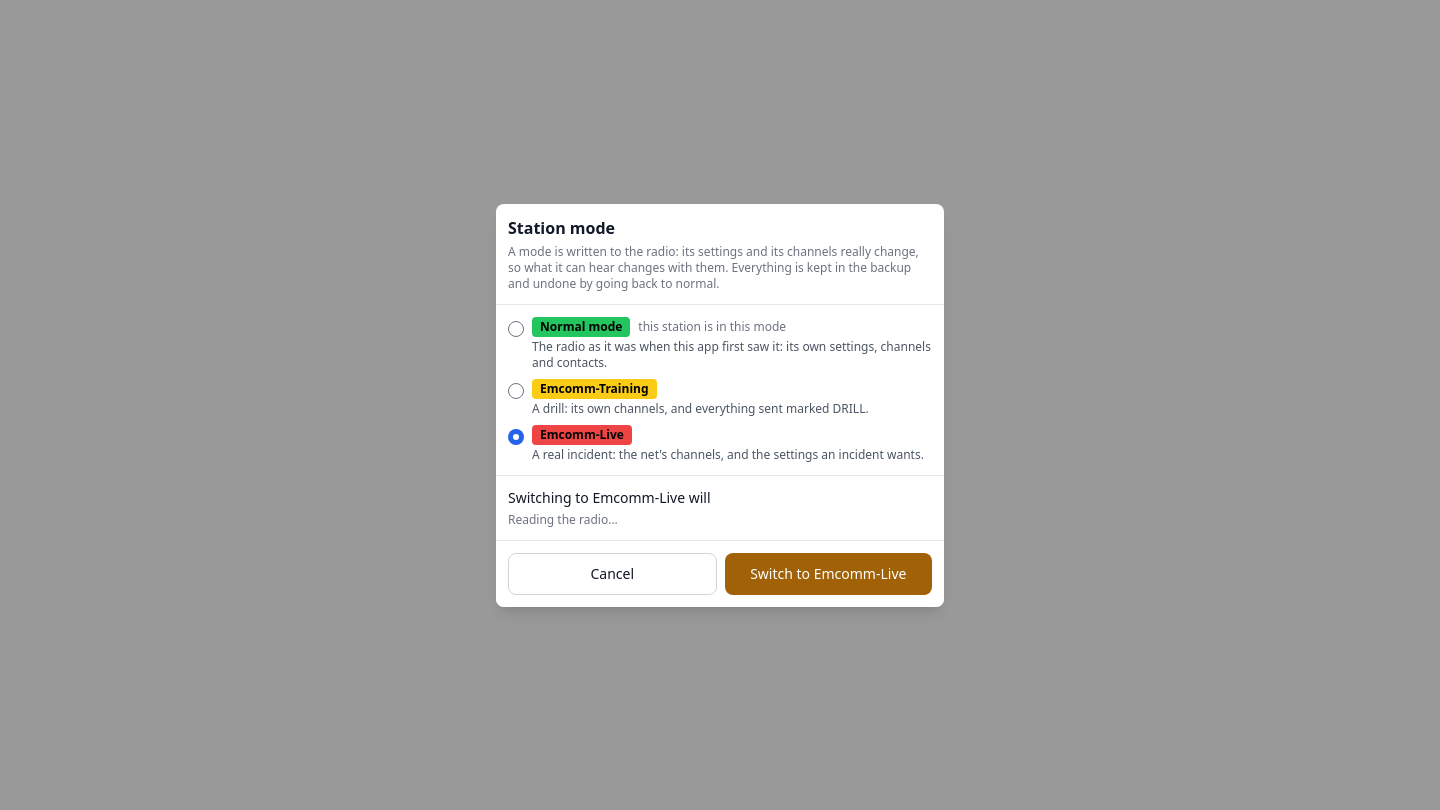
the mode switch dialog › stops and asks when the way home would be incomplete, and writes nothing
The width and height of the screenshot is (1440, 810).
Step 1. Click the button "Switch to Emcomm-Live" → {"x": 828, "y": 574}, box [725,552,932,594]
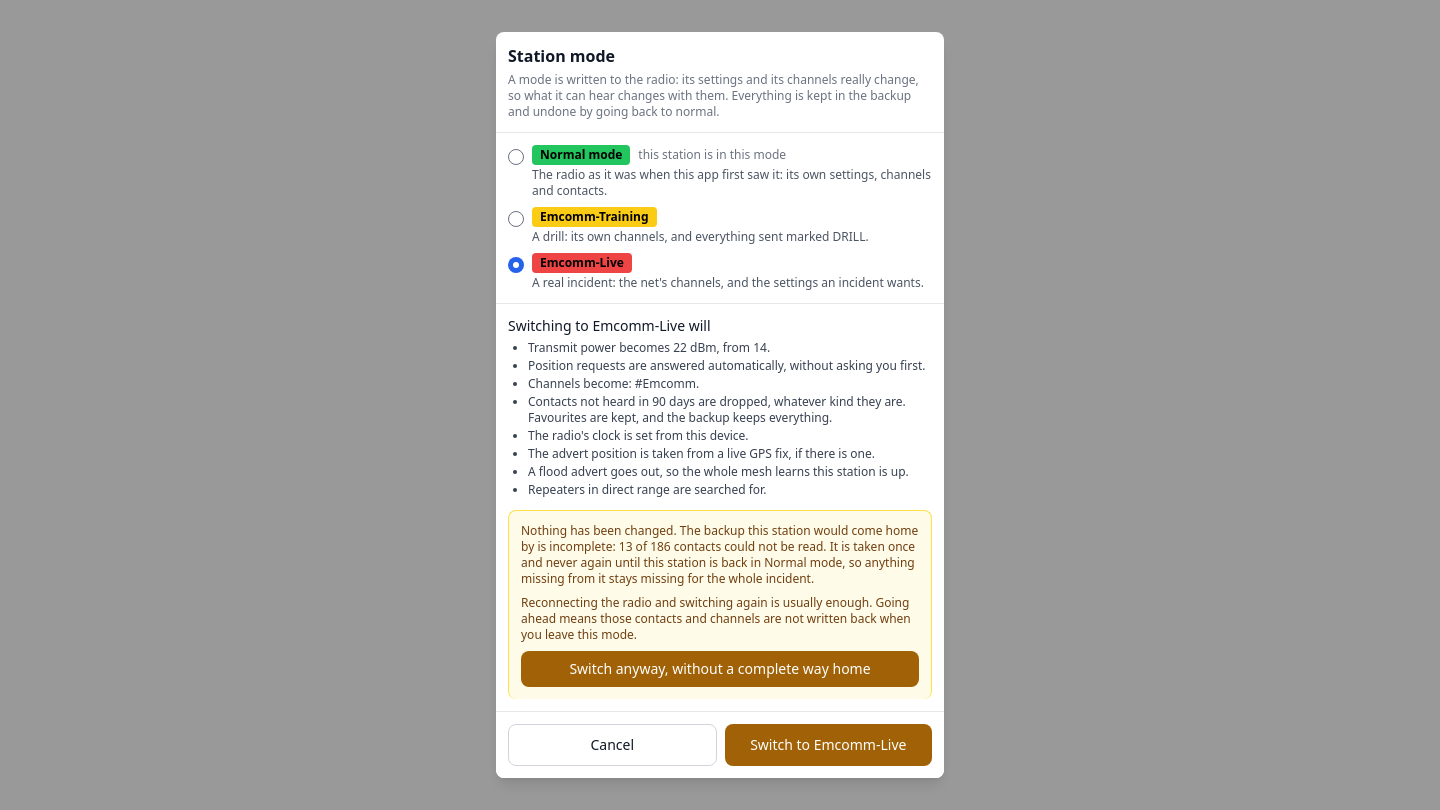
Result: the text "Nothing has been changed" is shown at [521,522,918,587]
Result: the text "13 of 186 contacts could not be read" is shown at [521,522,918,587]
Result: the button "Switch anyway, without a complete way home" is shown
Step 2. Click the button "Switch anyway, without a complete way home" → {"x": 720, "y": 669}, box [521,651,919,687]
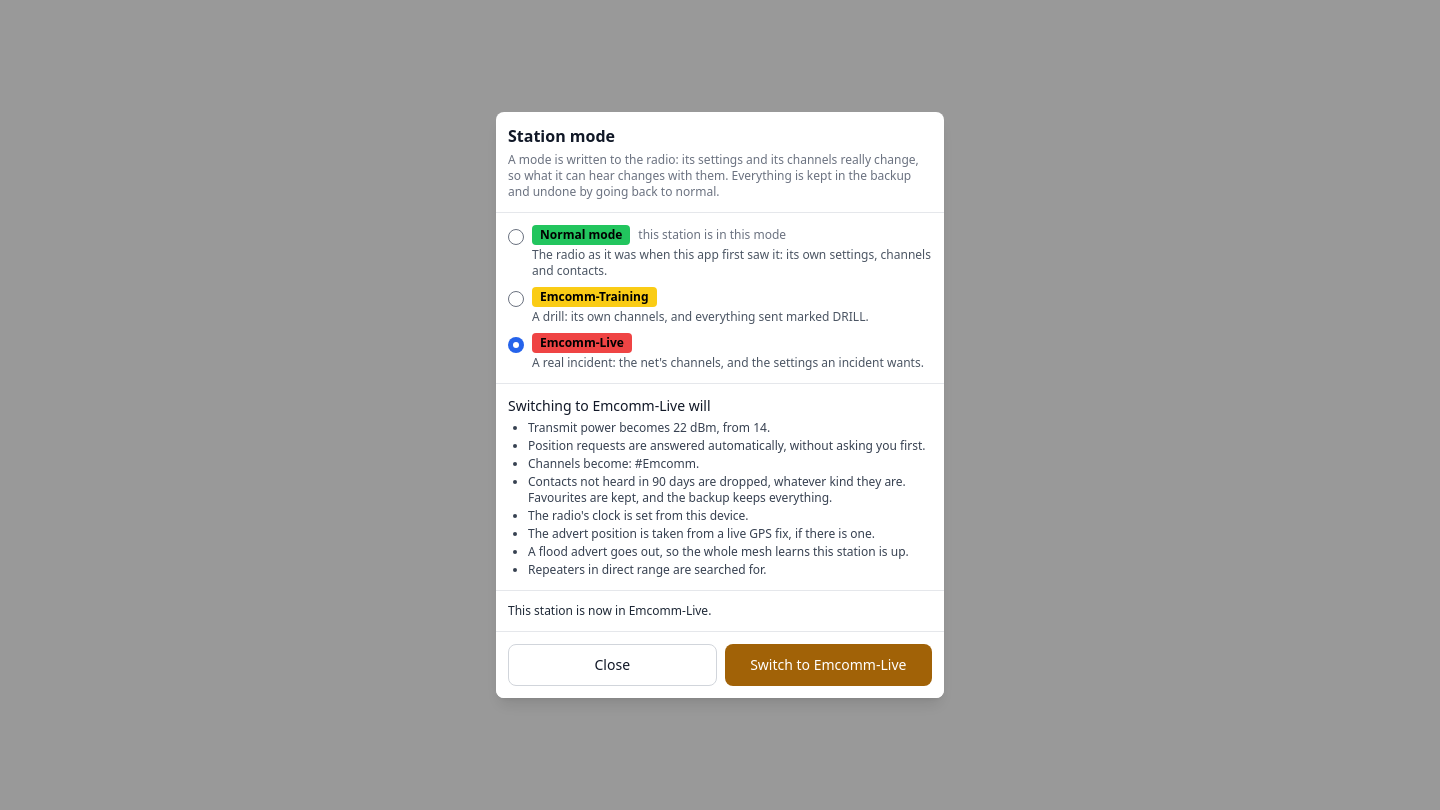
Result: the text "This station is now in Emcomm-Live" is shown at [508,602,711,619]
